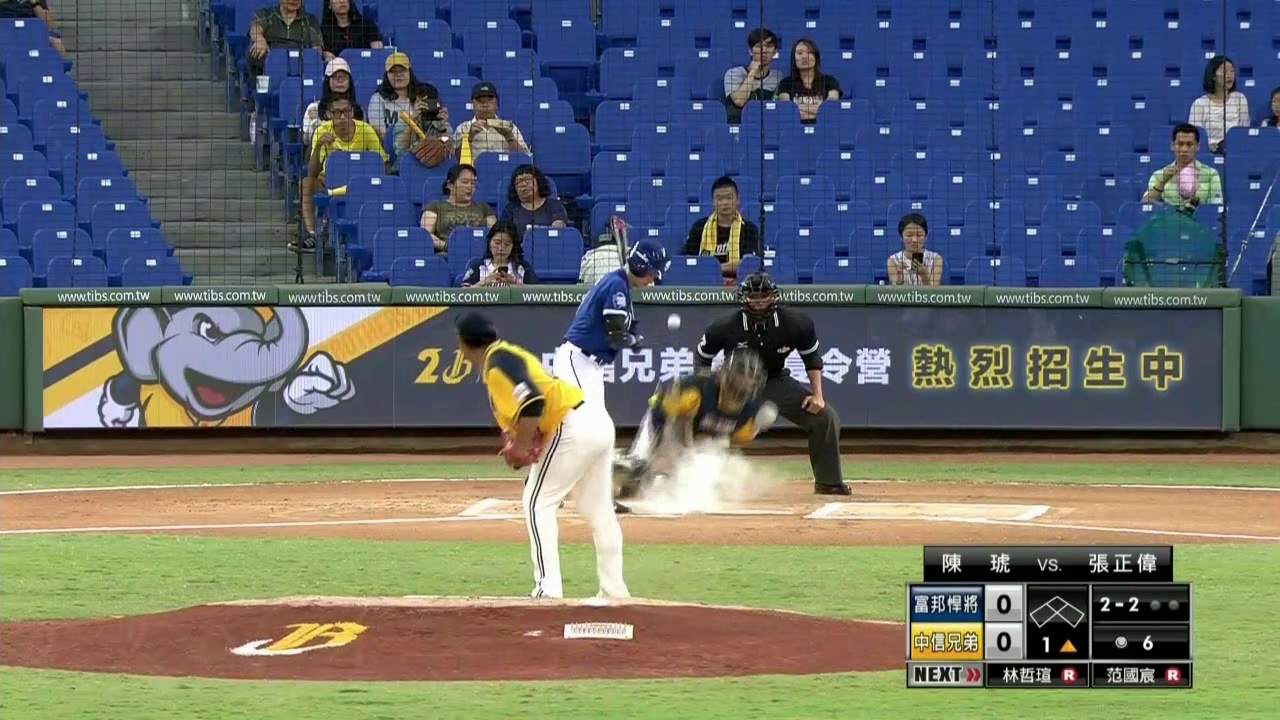ball: (670, 317, 682, 329)
base: (1030, 588, 1089, 631)
bat: (617, 217, 627, 268)
out: (1145, 591, 1178, 613)
score1: (988, 592, 1018, 620)
score2: (994, 629, 1021, 654)
session: (1033, 634, 1083, 656)
strikeball: (1093, 588, 1146, 615)
total: (1110, 630, 1163, 656)
